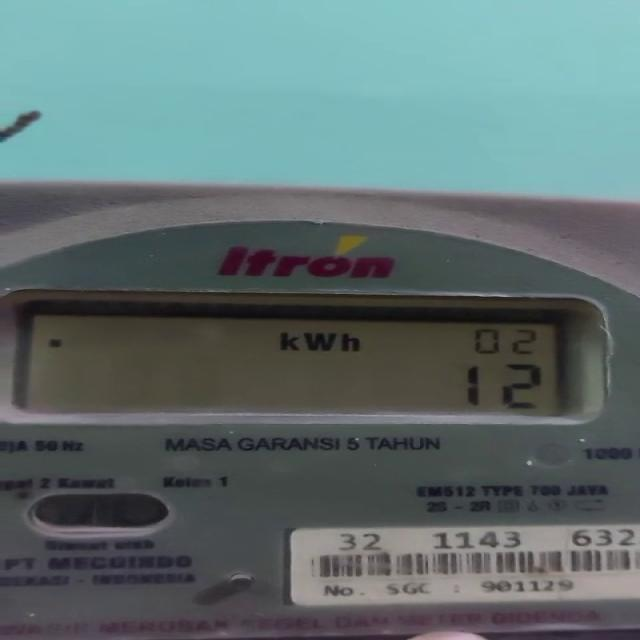LCD: (20, 298, 581, 417)
